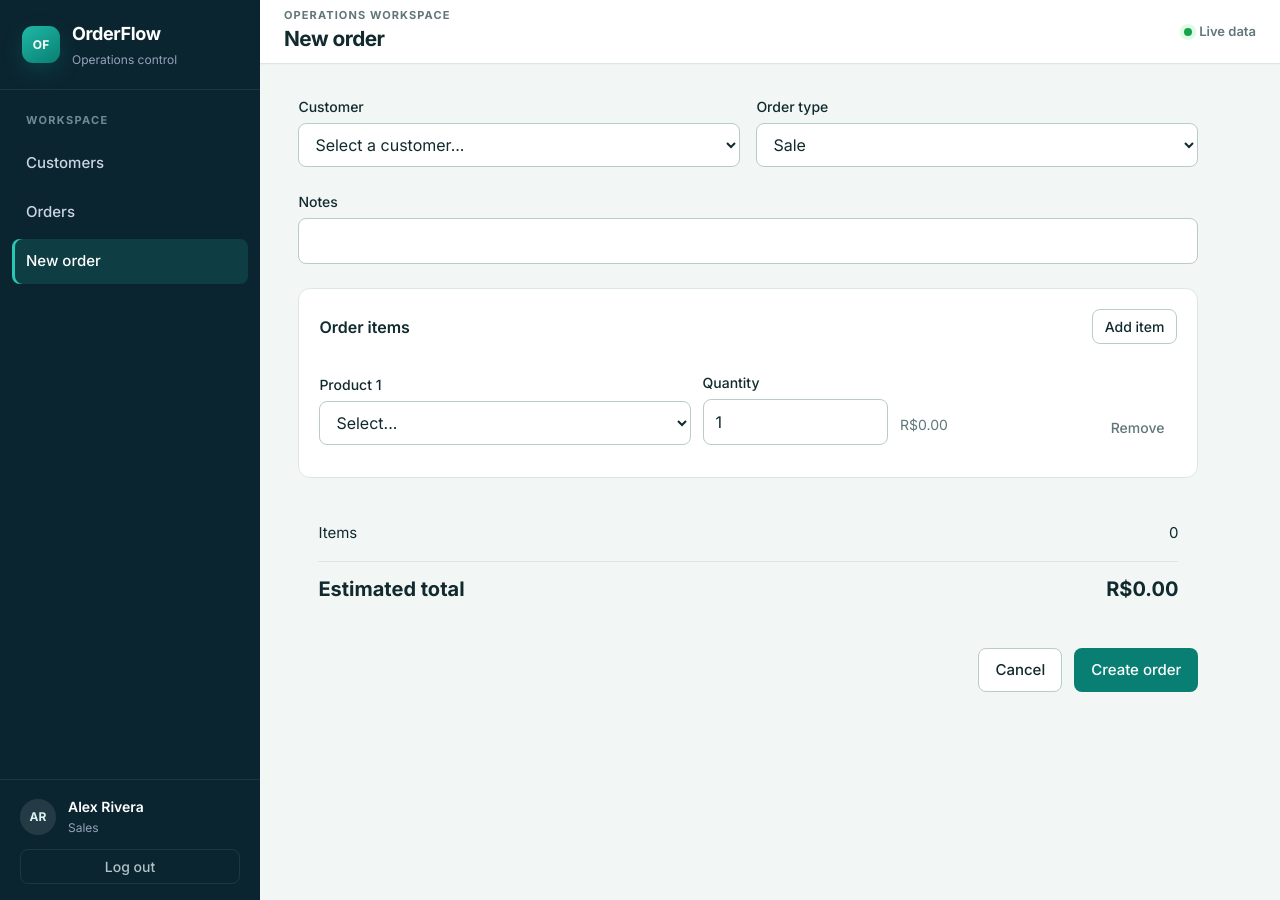
it: CreateOrderPage › displays insufficient stock error from API
The image size is (1280, 900).
Step 1. Select "Northwind Trading Co." in the dropdown labelled "Customer" → (519, 145), box 298,123 -> 740,167
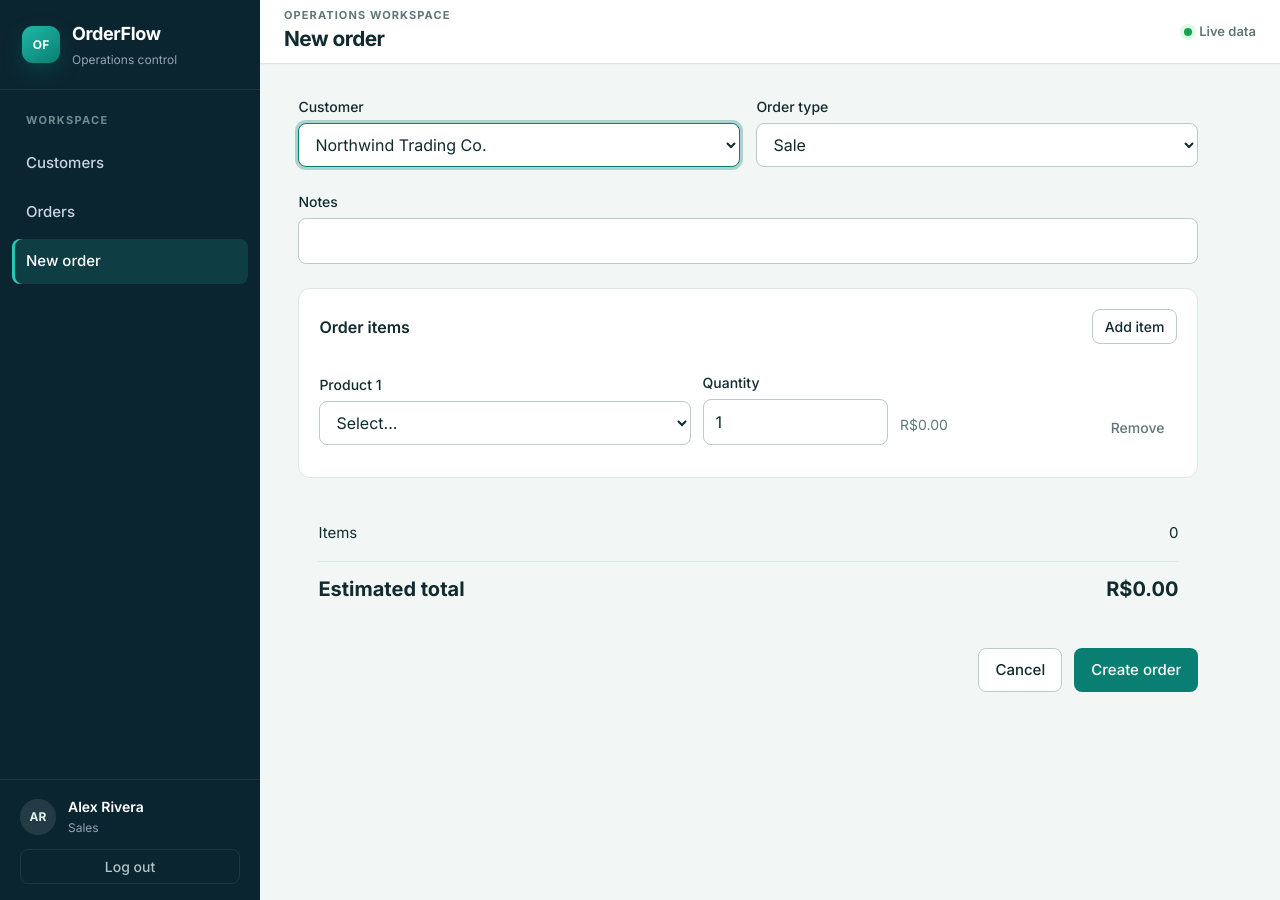
Step 2. Select "WIDGET-A — Standard Widget A (R$29.99)" in the dropdown labelled "Product 1" → (505, 423), box 319,401 -> 690,445
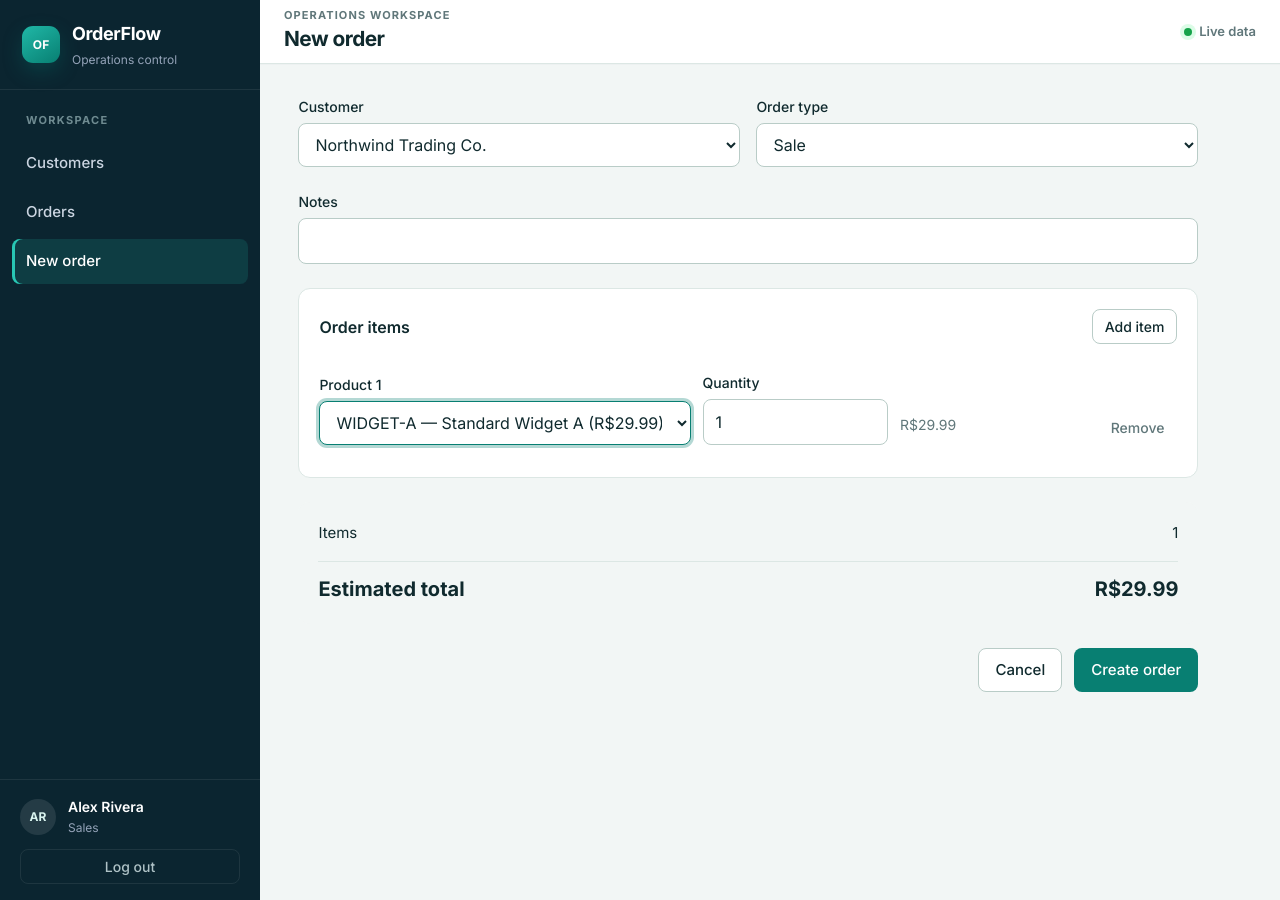
Step 3. Click the button "Create order" → (1136, 670), box 1074,648 -> 1198,692
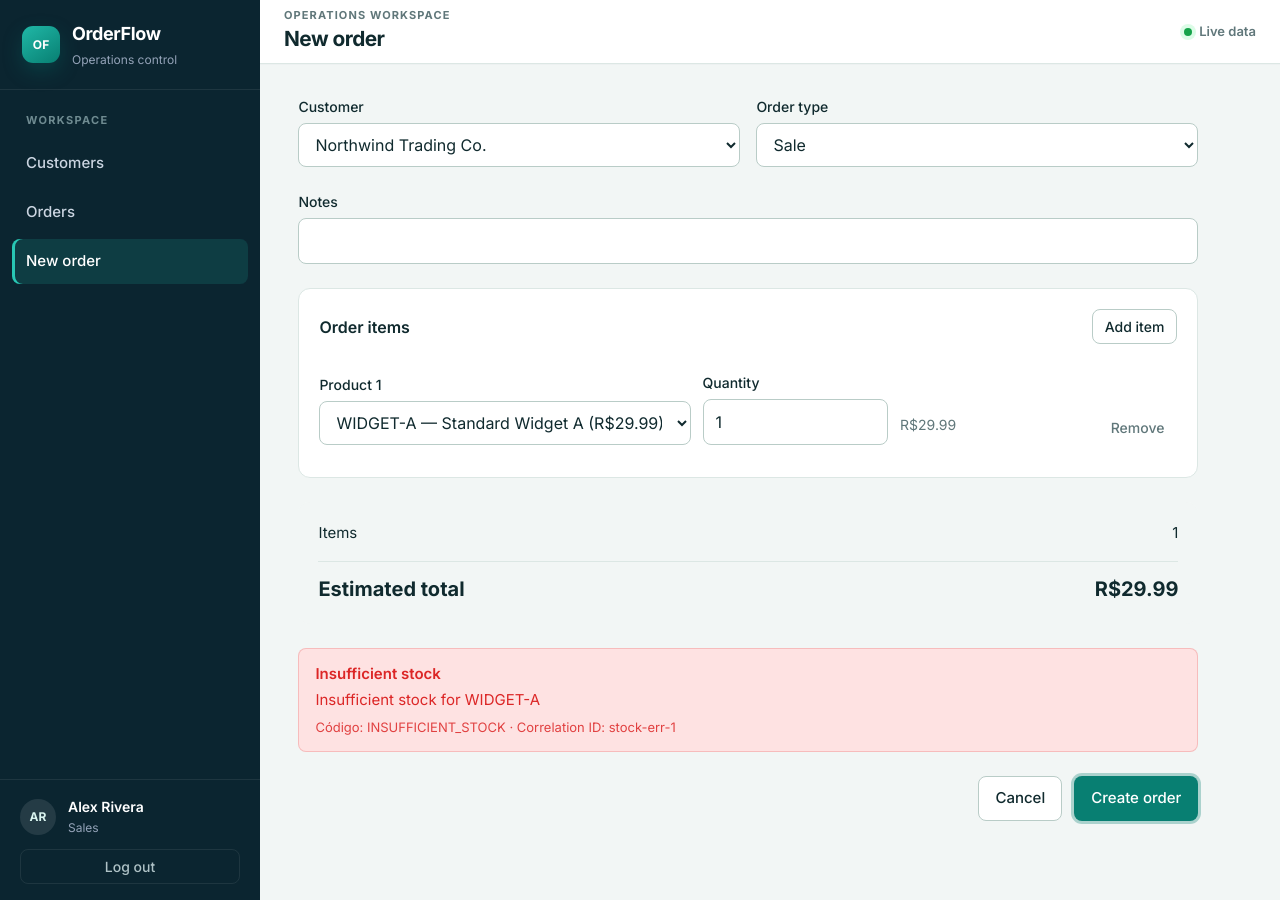
Now the message shows "Insufficient stock", box 315,664 -> 441,682
Now the message shows "WIDGET-A", box 315,690 -> 540,709
